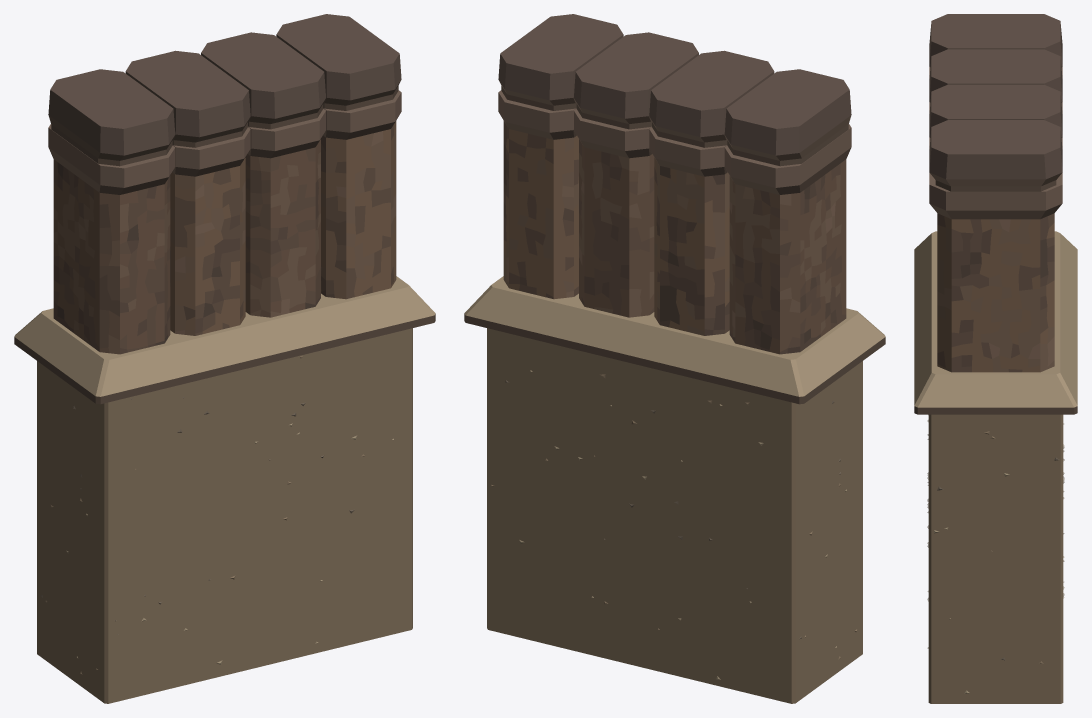
Rendered from changning-soong-hongqiao-four-chimney-shafts-lod.glb.
3 views of the same model, side by side, from view 1: azimuth 30°, elevation 25°; view 2: azimuth 150°, elevation 25°; view 3: azimuth 270°, elevation 25° (orthographic). The views are drawn at different scales.
Parts seen in each view (by area): view 1: 虹桥路宋氏花园住宅四联切角烟囱与叠帽; view 2: 虹桥路宋氏花园住宅四联切角烟囱与叠帽; view 3: 虹桥路宋氏花园住宅四联切角烟囱与叠帽.
Part boxes in pixels (box(x1,y1,x2,y2)): 虹桥路宋氏花园住宅四联切角烟囱与叠帽: box(14, 14, 435, 703); 虹桥路宋氏花园住宅四联切角烟囱与叠帽: box(464, 14, 885, 703); 虹桥路宋氏花园住宅四联切角烟囱与叠帽: box(914, 14, 1077, 703).
Size of the model in its own units: 1.4 by 2.24 by 0.606.
